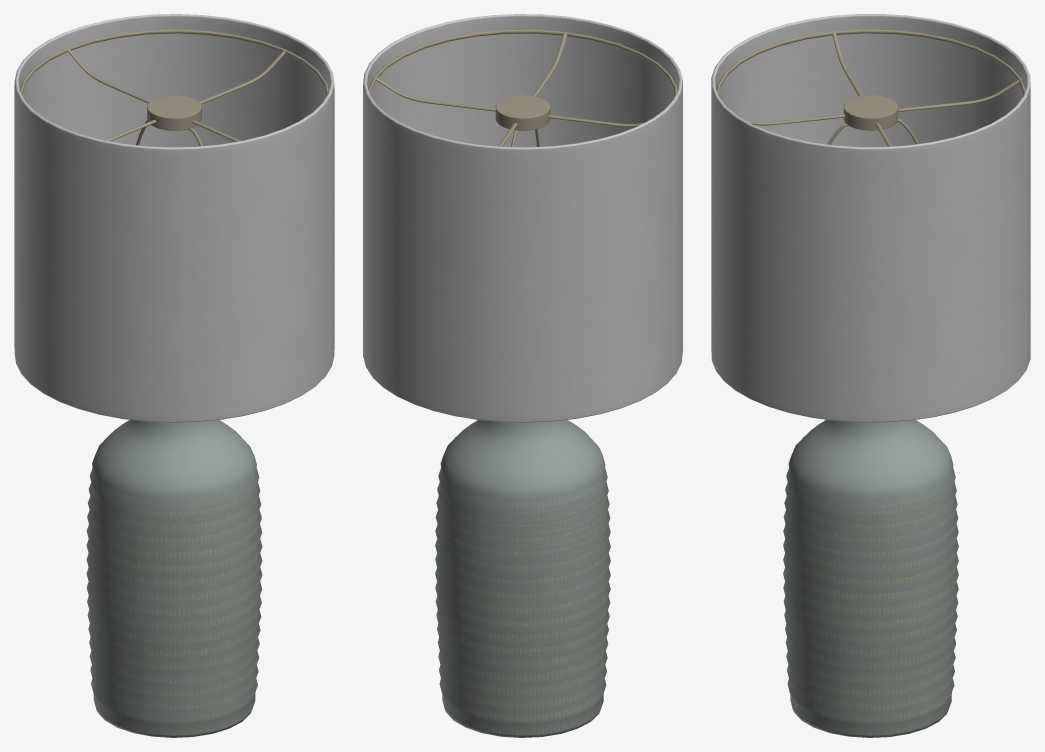
File: abo-B07QB7G5ZZ.glb
The picture shows the model from 3 angles, left to right: view 1: azimuth 30°, elevation 25°; view 2: azimuth 150°, elevation 25°; view 3: azimuth 270°, elevation 25°; orthographic projection.
Size of the model in its own units: 0.22 by 0.475 by 0.22.
1 material, 1 textured.
